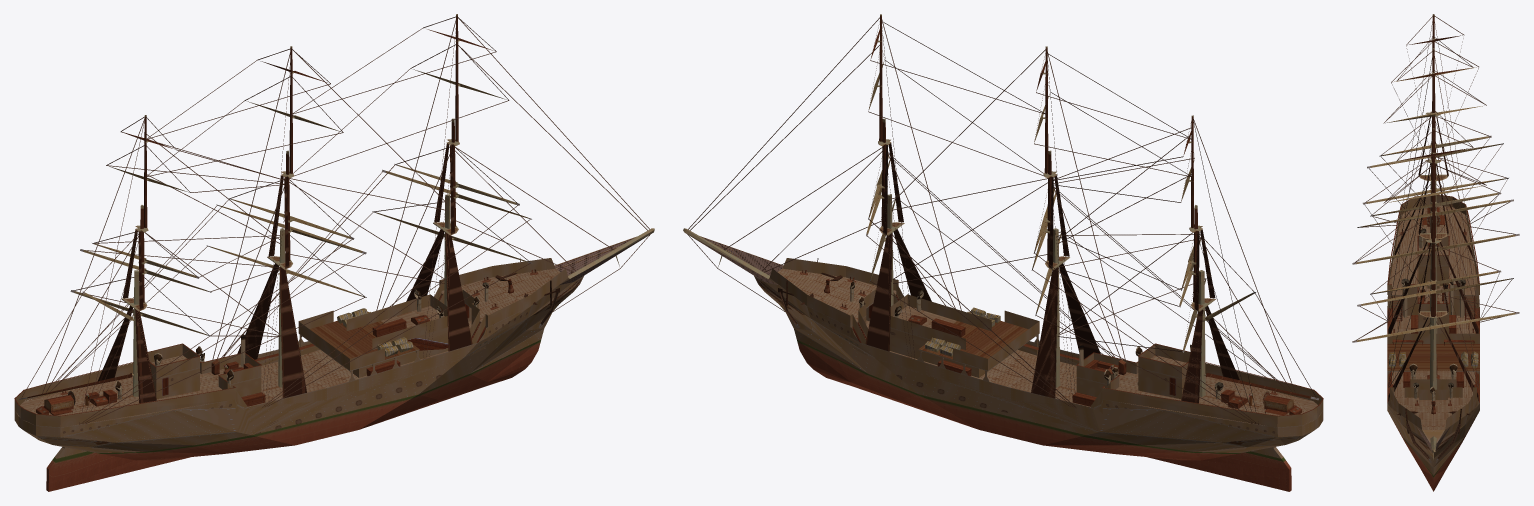
File: ShipCom.obj
3 renders of one model, left to right at view 1: azimuth 30°, elevation 25°; view 2: azimuth 150°, elevation 25°; view 3: azimuth 270°, elevation 25°, orthographic. The views are drawn at different scales.
Visible parts, largest first — view 1: Object001_Untitled; view 2: Object001_Untitled; view 3: Object001_Untitled.
Boxes of the visible parts, bbox=[...] form: Object001_Untitled: bbox=[14, 14, 654, 491]; Object001_Untitled: bbox=[683, 14, 1323, 491]; Object001_Untitled: bbox=[1352, 14, 1519, 491].
Size of the model in its own units: 2927 by 1694 by 745.
Materials: 1 (1 with a texture image).
